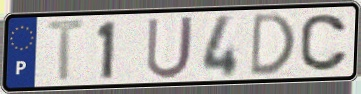1: (94, 18, 118, 82)
4: (200, 13, 242, 80)
C: (297, 12, 350, 73)
D: (248, 10, 298, 79)
T: (44, 17, 90, 85)
U: (144, 14, 197, 82)
